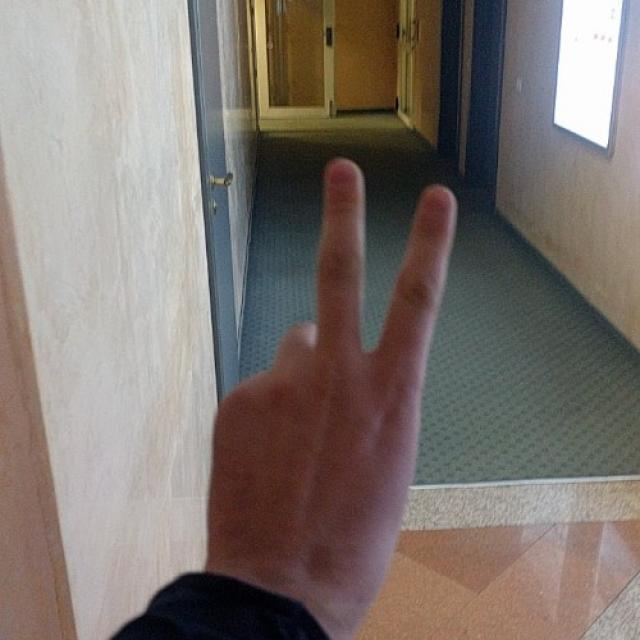scissors: (217, 157, 457, 556)
